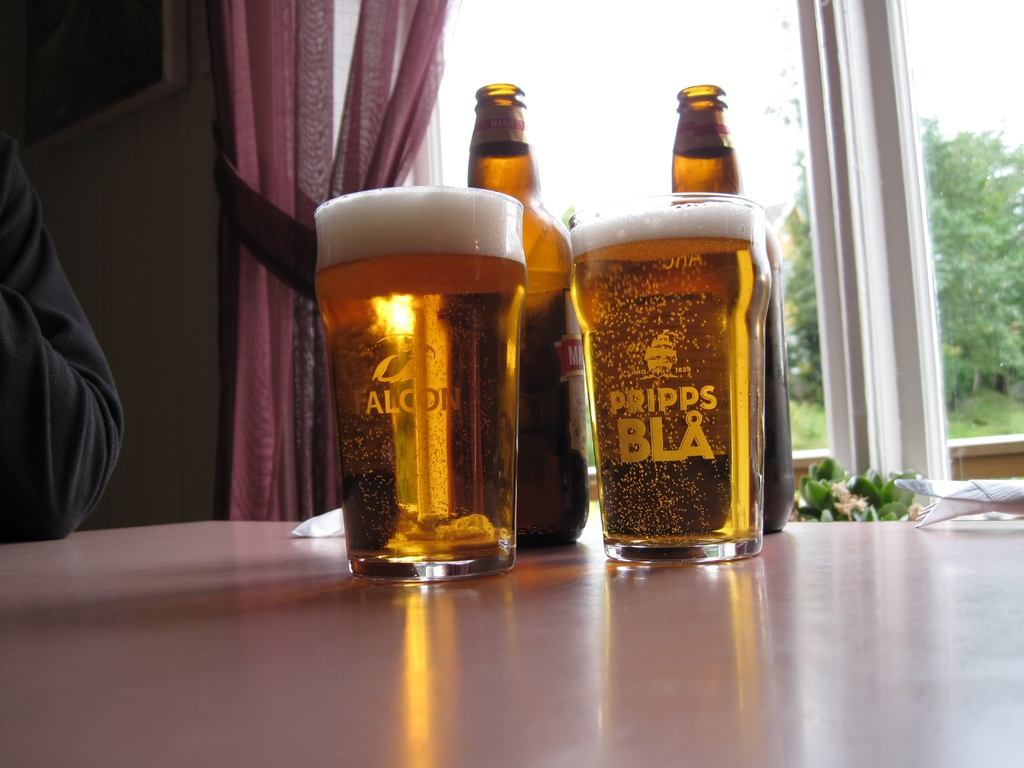Beer: (314, 184, 524, 581), (570, 199, 760, 545), (664, 78, 798, 531), (465, 82, 590, 558)
